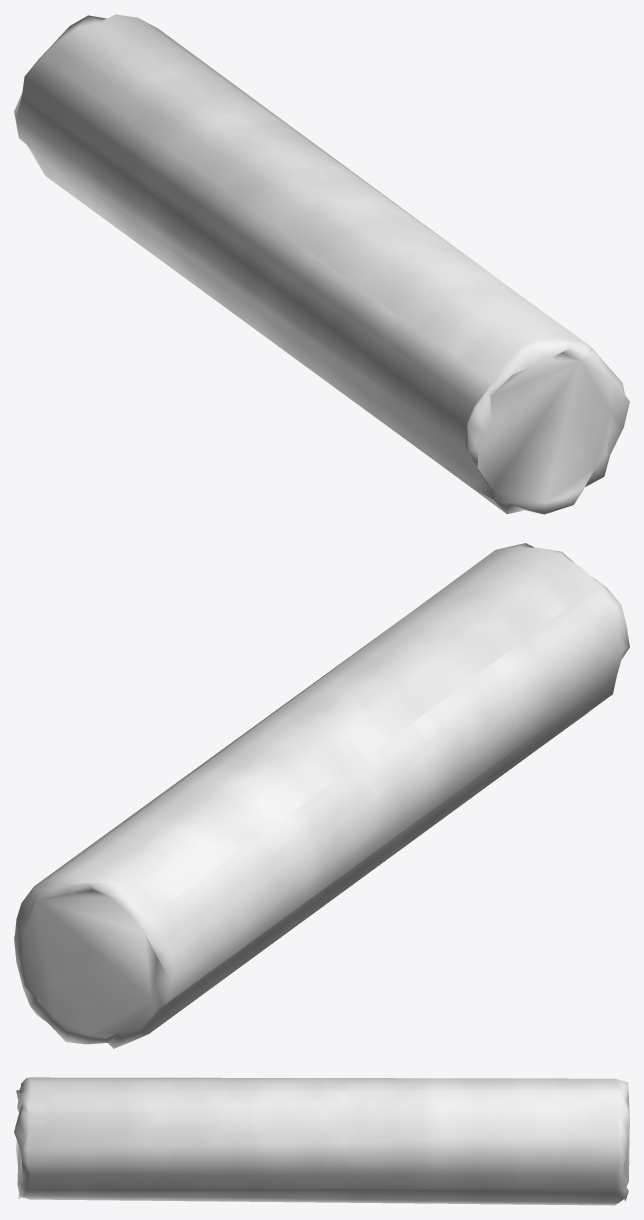
The picture shows the model from 3 angles, top to bottom: view 1: azimuth 30°, elevation 25°; view 2: azimuth 150°, elevation 25°; view 3: azimuth 270°, elevation 25°; orthographic projection. The views are drawn at different scales.
Parts seen in each view (by area): view 1: kreide; view 2: kreide; view 3: kreide.
Boxes of the visible parts, x1,y1,x2,y2 form: kreide: (14,14,629,514); kreide: (14,543,629,1048); kreide: (14,1077,629,1205).
Bounding box in the file's own units: 0.0157 × 0.0153 × 0.0761.
1 material, 1 textured.
